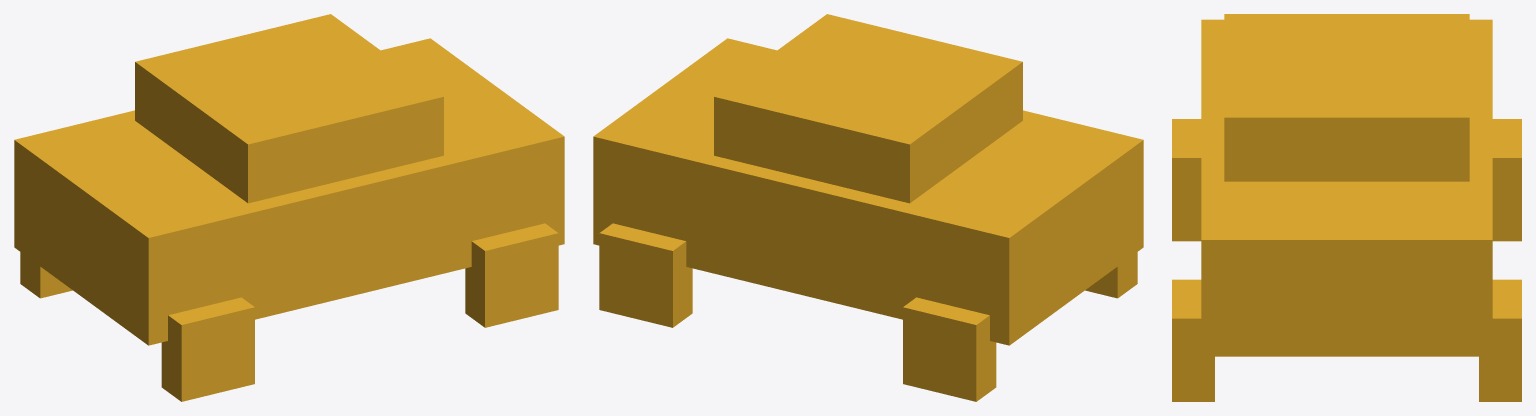
Rendered from robot-vehicle.glb.
3 views of the same model, side by side, from view 1: azimuth 30°, elevation 25°; view 2: azimuth 150°, elevation 25°; view 3: azimuth 270°, elevation 25° (orthographic). The views are drawn at different scales.
Visible parts, largest first — view 1: RobotVehicle; view 2: RobotVehicle; view 3: RobotVehicle.
Boxes of the visible parts, bbox=[...] form: RobotVehicle: bbox=[14, 14, 564, 401]; RobotVehicle: bbox=[593, 14, 1143, 401]; RobotVehicle: bbox=[1172, 14, 1521, 401].
Size of the model in its own units: 1.7 by 0.85 by 1.14.
